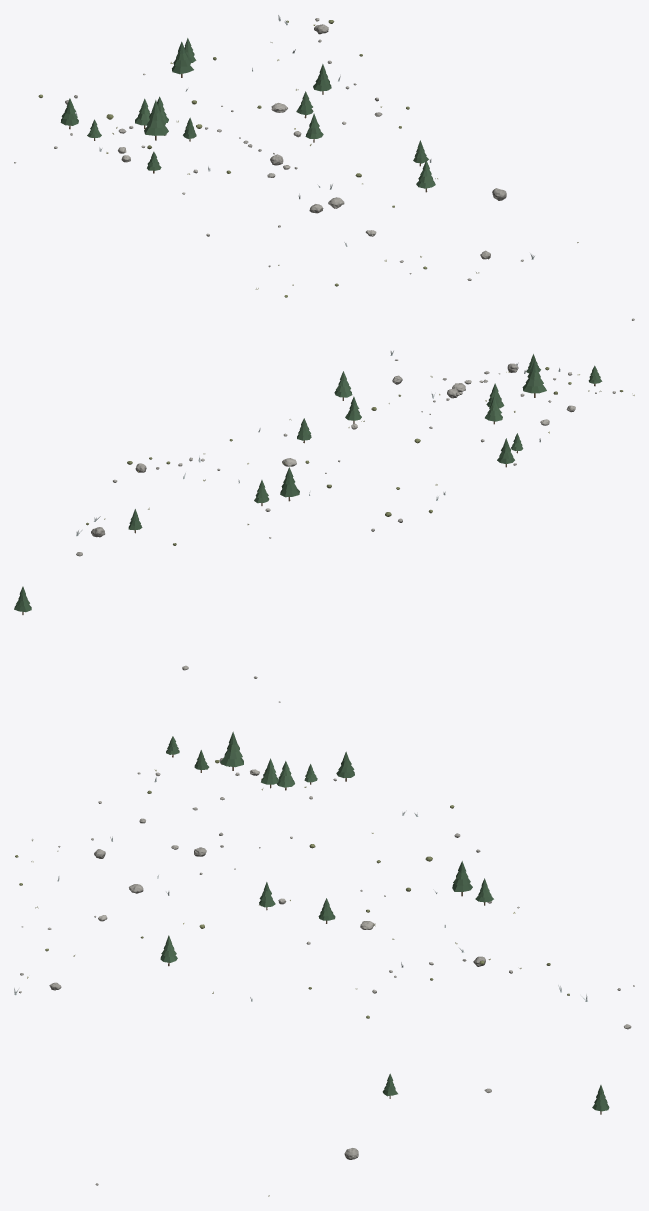
File: coast_land_scatter_c11_15.glb
3 renders of one model, top to bottom at view 1: azimuth 30°, elevation 25°; view 2: azimuth 150°, elevation 25°; view 3: azimuth 270°, elevation 25°, orthographic. The views are drawn at different scales.
Parts seen in each view (by area): view 1: coast_land_scatter_c11_15; view 2: coast_land_scatter_c11_15; view 3: coast_land_scatter_c11_15.
Part boxes in pixels (x1=…): coast_land_scatter_c11_15: x1=14, y1=15, x2=634, y2=320; coast_land_scatter_c11_15: x1=14, y1=350, x2=634, y2=702; coast_land_scatter_c11_15: x1=14, y1=731, x2=634, y2=1196.
Bounding box in the file's own units: 200 × 107 × 231.
